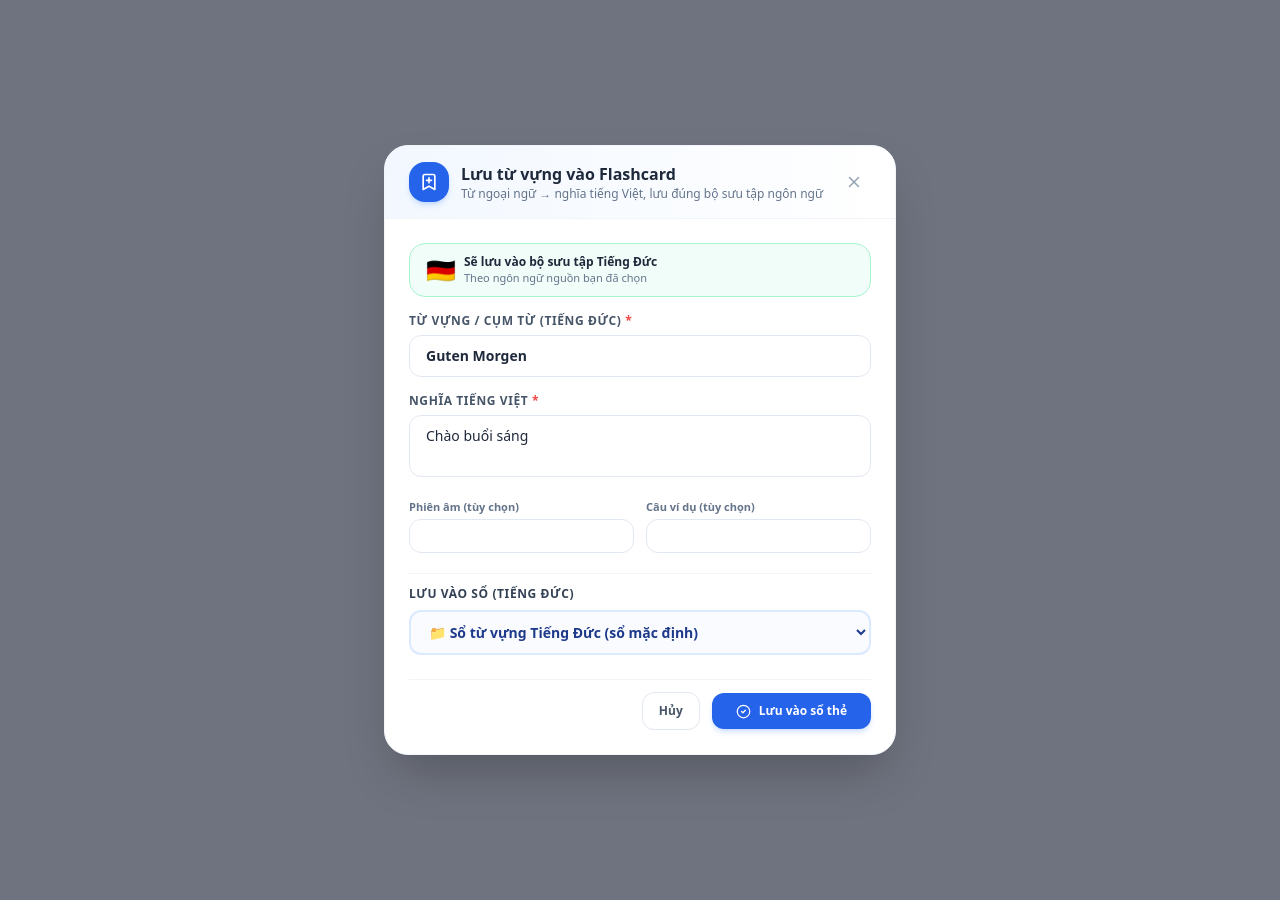
Test: SaveFlashcardModal — lưu từ Realtime Translation › lỗi nghiệp vụ từ máy chủ được hiển thị, modal giữ nguyên và KHÔNG ghi LocalStorage
This screenshot has width=1280, height=900.
Expected: the text "Sẽ lưu vào bộ sưu tập Tiếng Đức" is shown, x1=464 y1=254 x2=657 y2=270
What coordinates should you click on to do the following:
click the button "Lưu vào sổ thẻ"
I would click on:
 (791, 711)
Its box is x1=712 y1=693 x2=871 y2=729.
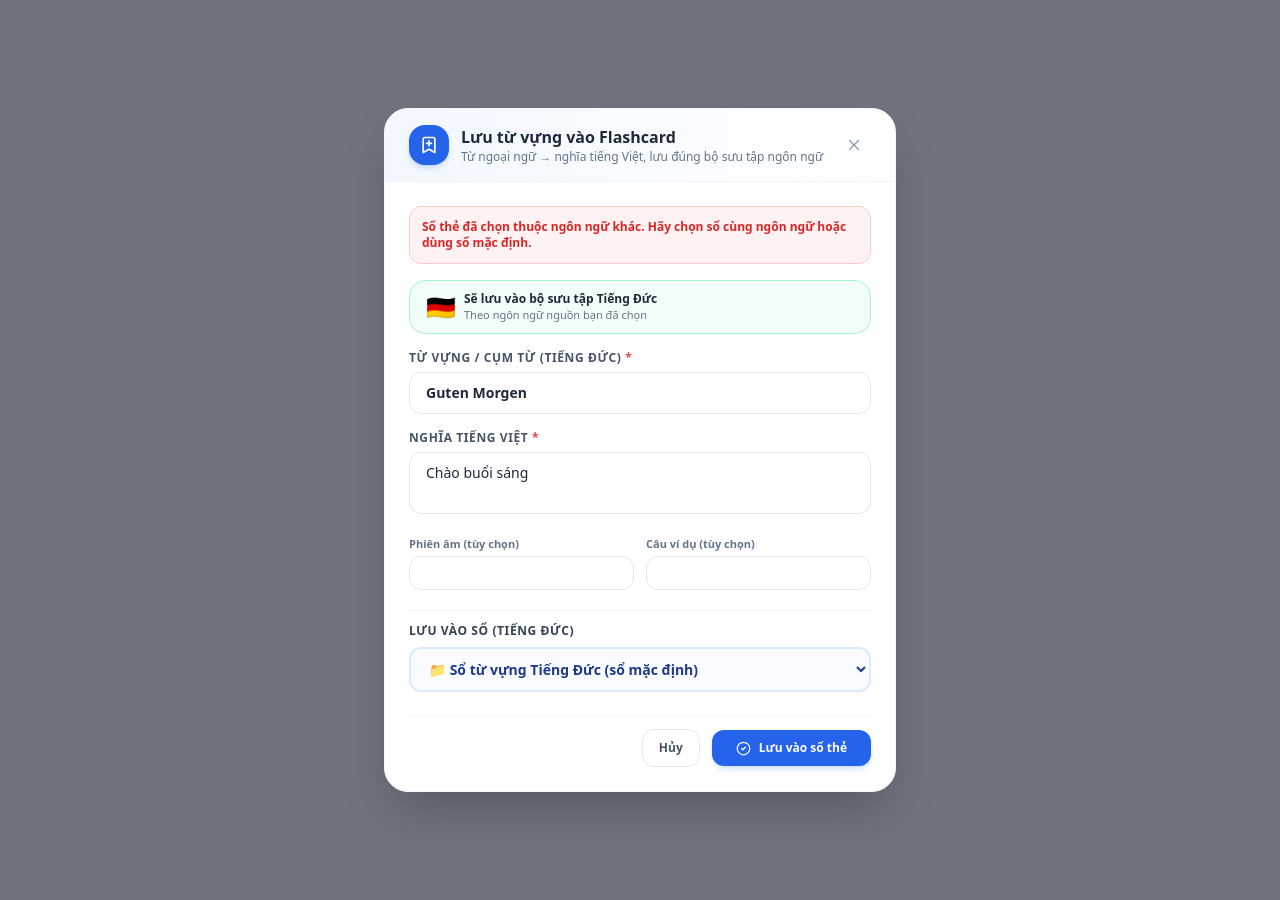
Expected: the message shows "thuộc ngôn ngữ khác", x1=422 y1=218 x2=846 y2=251
